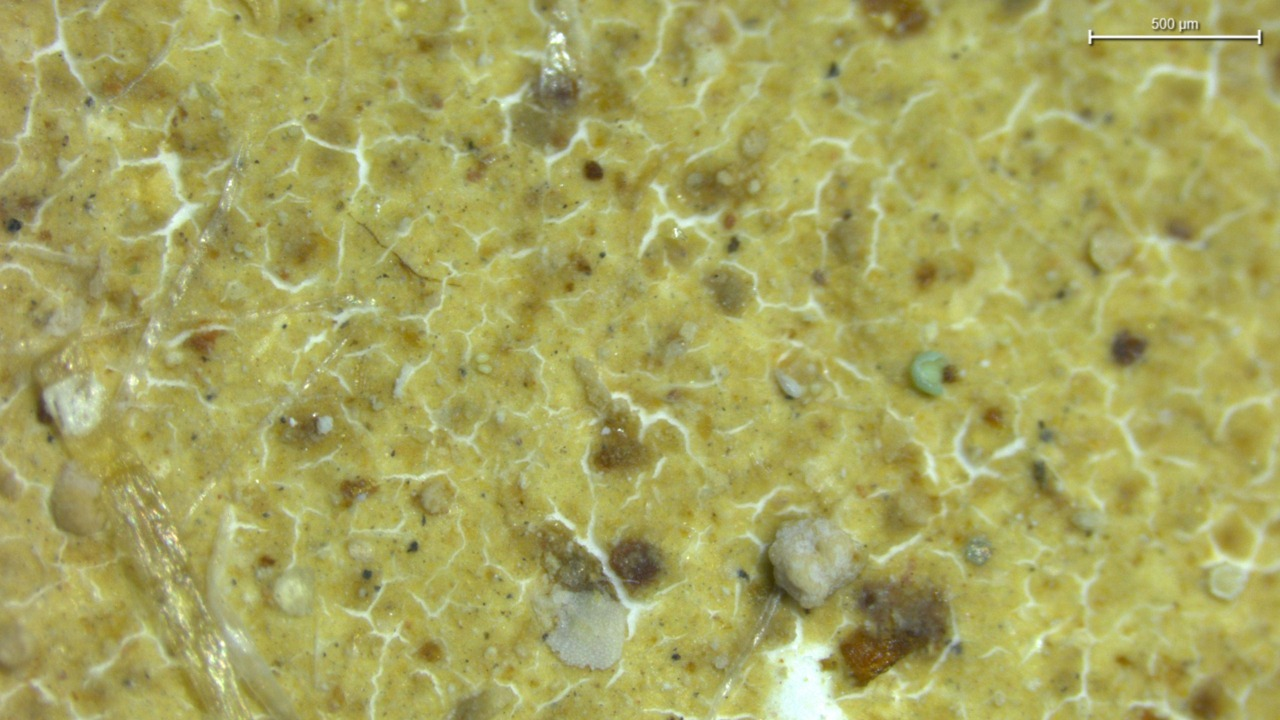microplastic_fragment: (768, 518, 862, 610), (544, 590, 628, 670)
